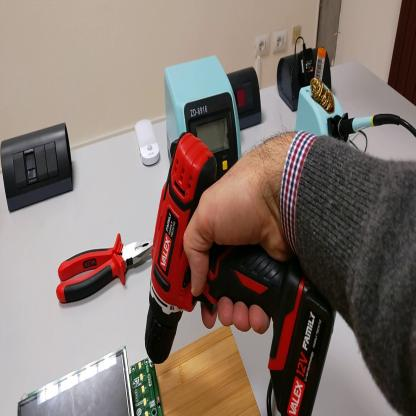electric screwdriver: (145, 133, 303, 372)
hand: (185, 141, 293, 333)
low voltage board: (18, 347, 165, 416)
pliers: (55, 234, 155, 307)
socket: (275, 45, 333, 118), (227, 65, 263, 131)
welder base: (298, 48, 350, 141)
welder probe tip: (335, 108, 404, 140)
welder station: (164, 57, 244, 179)
working area: (155, 327, 261, 416)
